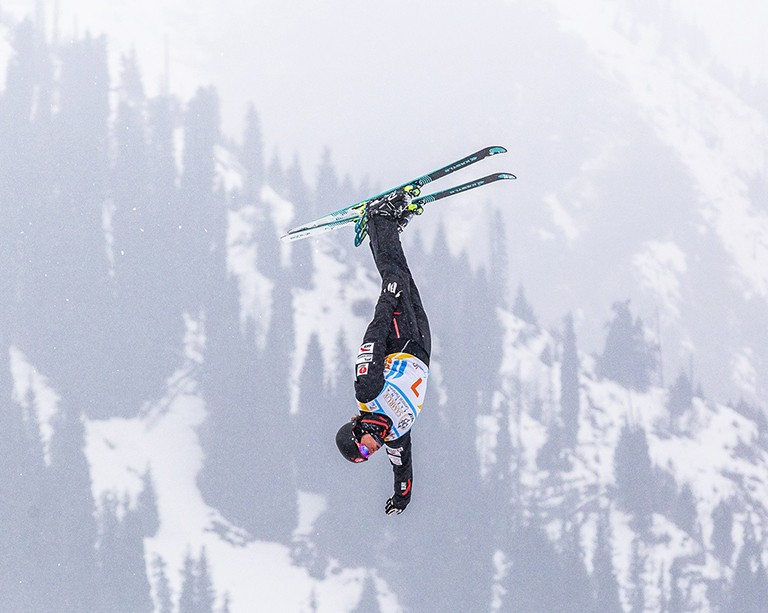skier: (274, 139, 514, 518)
